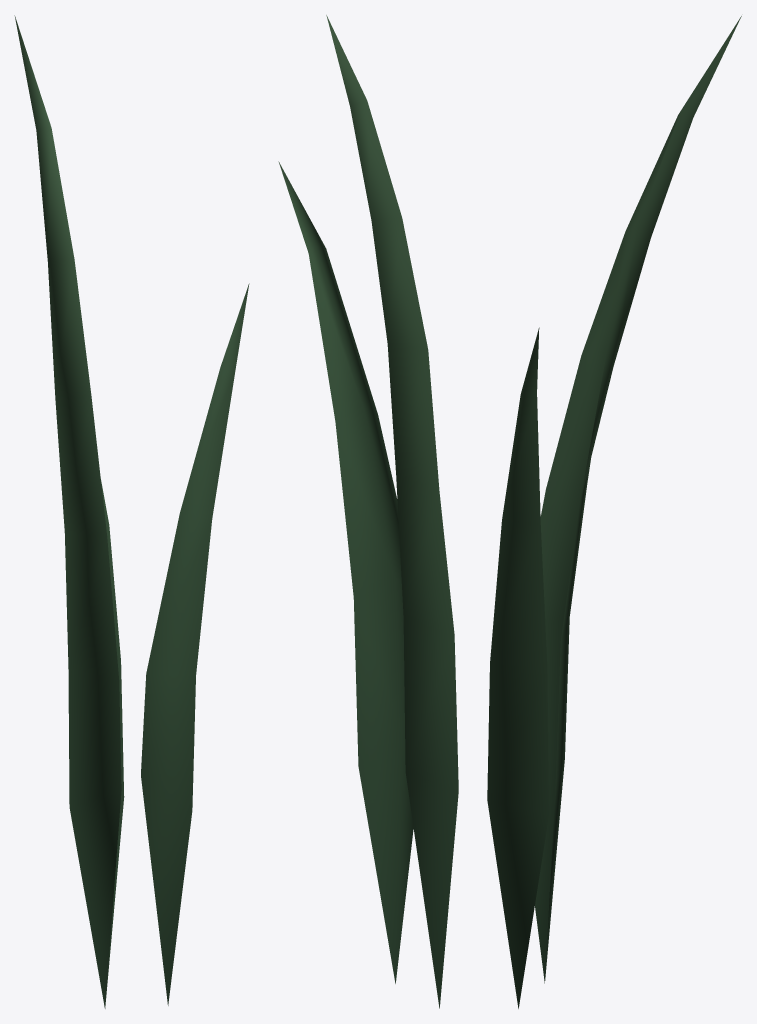
File: trees-grasses-grass-blades_v9.glb
3 renders of one model, left to right at view 1: azimuth 30°, elevation 25°; view 2: azimuth 150°, elevation 25°; view 3: azimuth 270°, elevation 25°, orthographic. The views are drawn at different scales.
Visible parts, largest first — view 1: Grass Blades_v9; view 2: Grass Blades_v9; view 3: Grass Blades_v9.
Boxes of the visible parts, x1,y1,x2,y2 form: Grass Blades_v9: (14, 15, 249, 1008); Grass Blades_v9: (278, 15, 458, 1008); Grass Blades_v9: (487, 16, 741, 1008).
Bounding box in the file's own units: 0.0569 × 0.3 × 0.0714.
